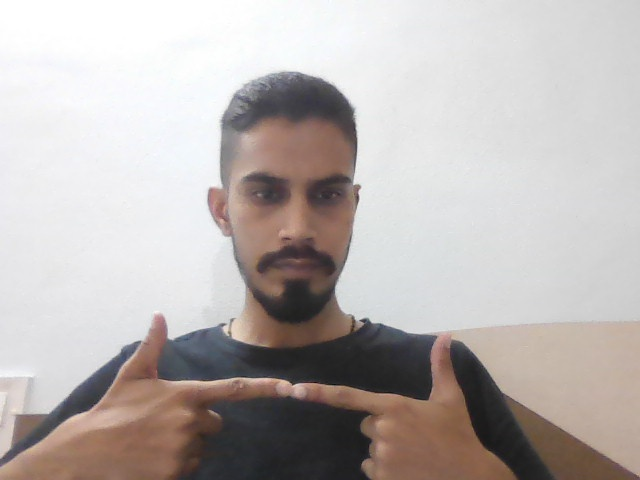Hurt: (82, 313, 505, 480)
